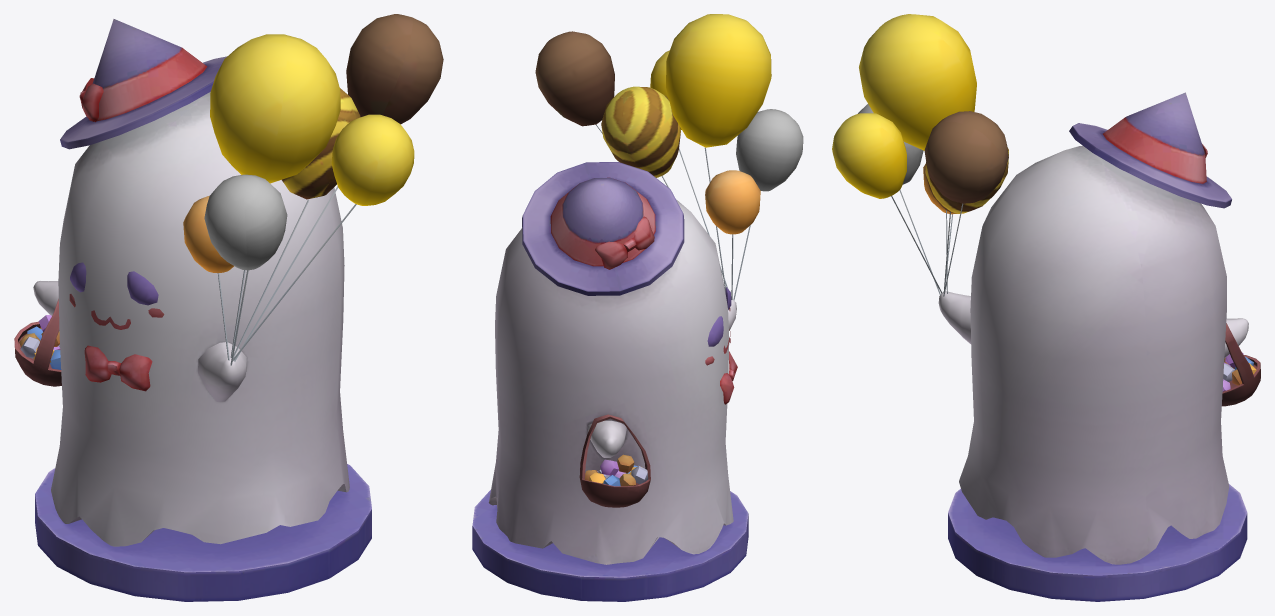
Rendered from my_halloween_01_p_ghost.glb.
3 renders of one model, left to right at view 1: azimuth 30°, elevation 25°; view 2: azimuth 150°, elevation 25°; view 3: azimuth 270°, elevation 25°, orthographic. The views are drawn at different scales.
Parts seen in each view (by area): view 1: my_halloween_01_p_ghost; view 2: my_halloween_01_p_ghost; view 3: my_halloween_01_p_ghost.
Boxes of the visible parts, x1,y1,x2,y2 form: my_halloween_01_p_ghost: (14, 14, 443, 601); my_halloween_01_p_ghost: (472, 14, 803, 601); my_halloween_01_p_ghost: (832, 14, 1260, 601).
Size of the model in its own units: 0.0104 by 0.0187 by 0.0143.
1 material, 1 textured.
